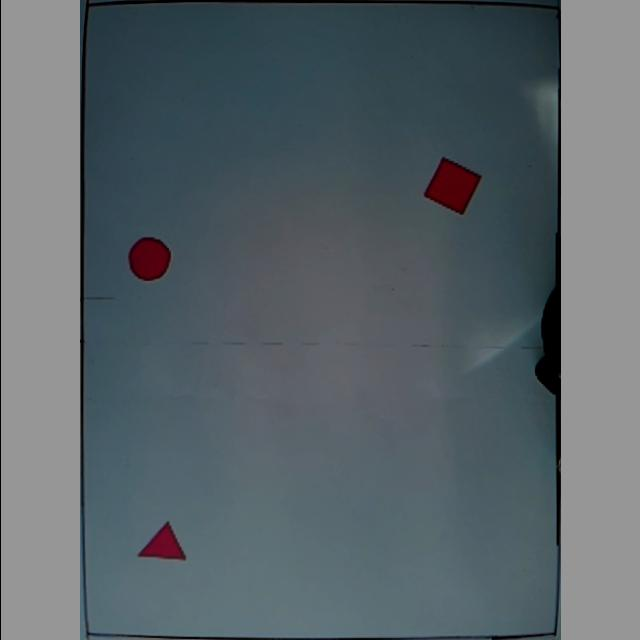pinkCircle: (129, 236, 173, 280)
pinkSquare: (423, 158, 483, 215)
pinkTriangle: (136, 520, 188, 562)
